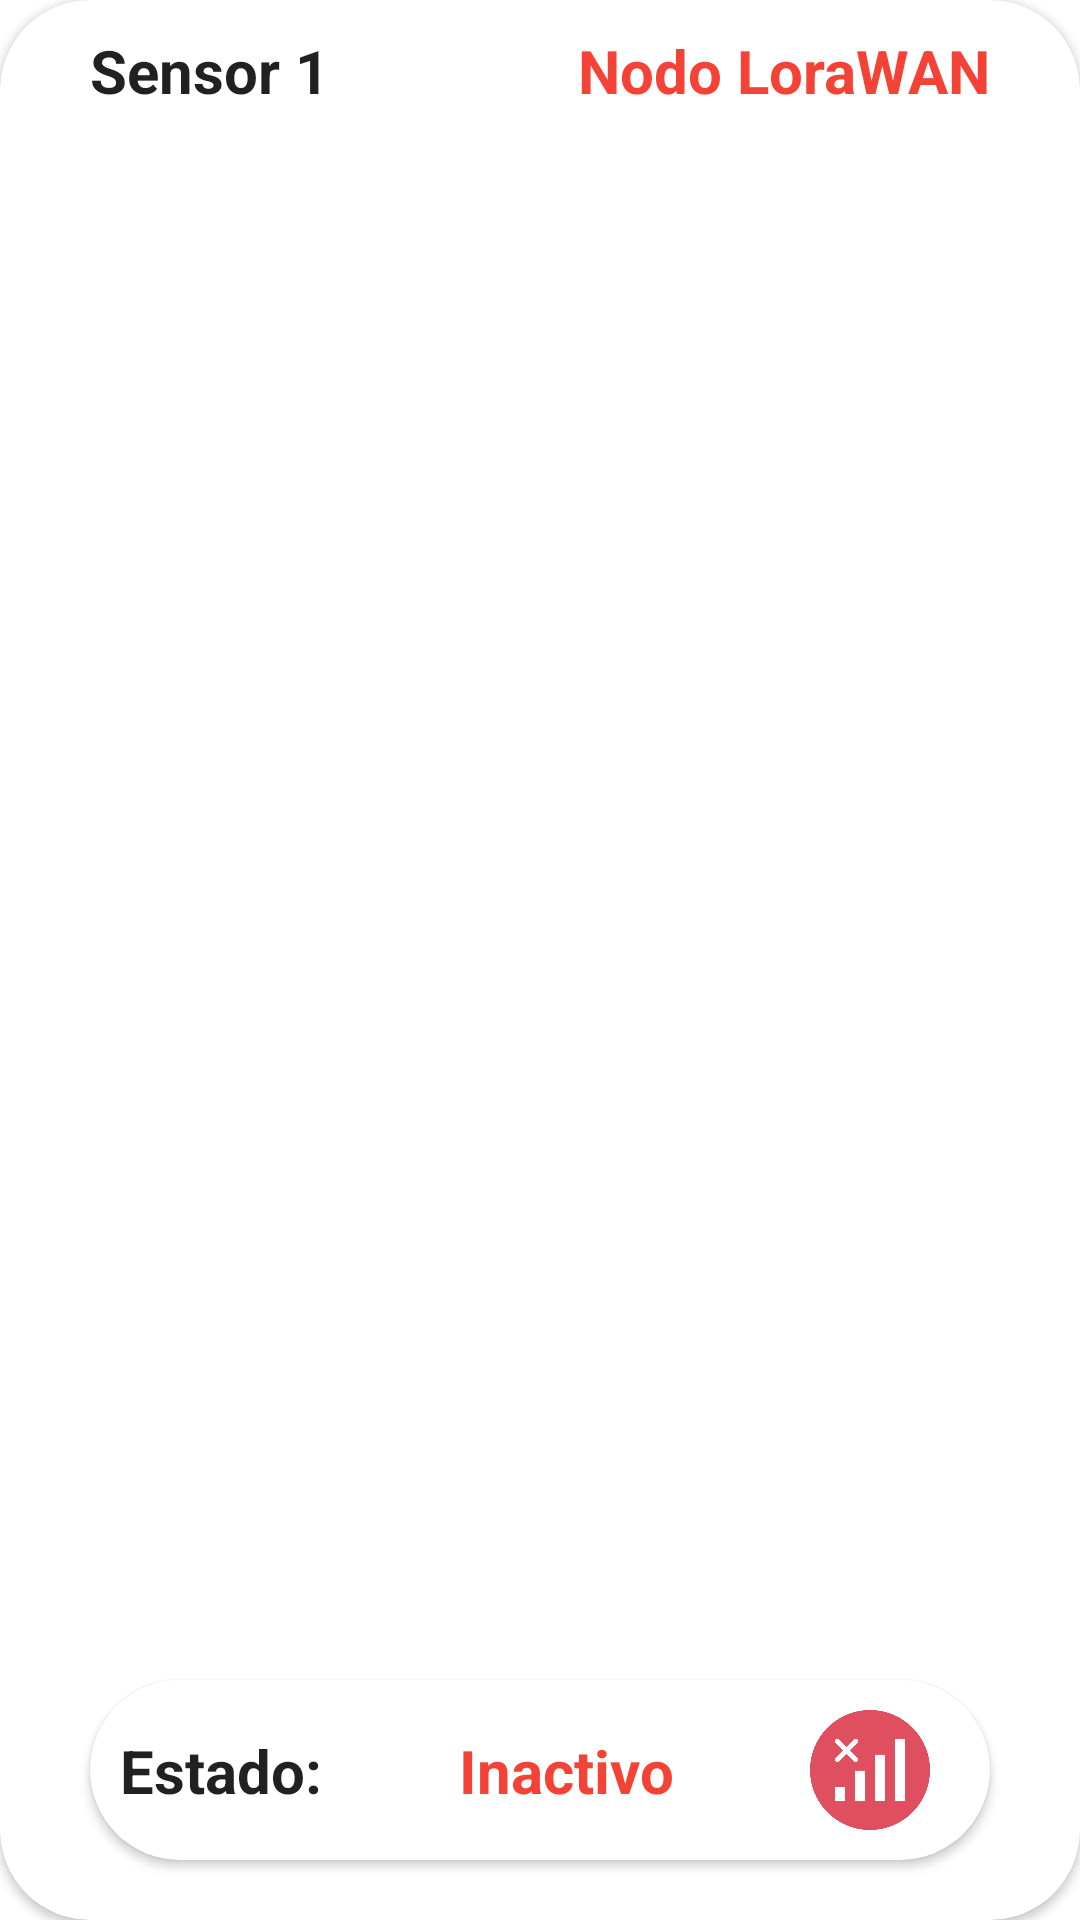

Named icons in this screenshot (1080×1920) and their centers, (x,y):
off: (870,1770)
